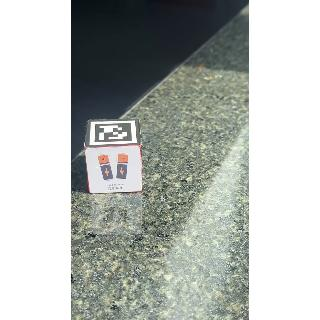Expired_Cosmetic: (87, 146, 145, 194)
